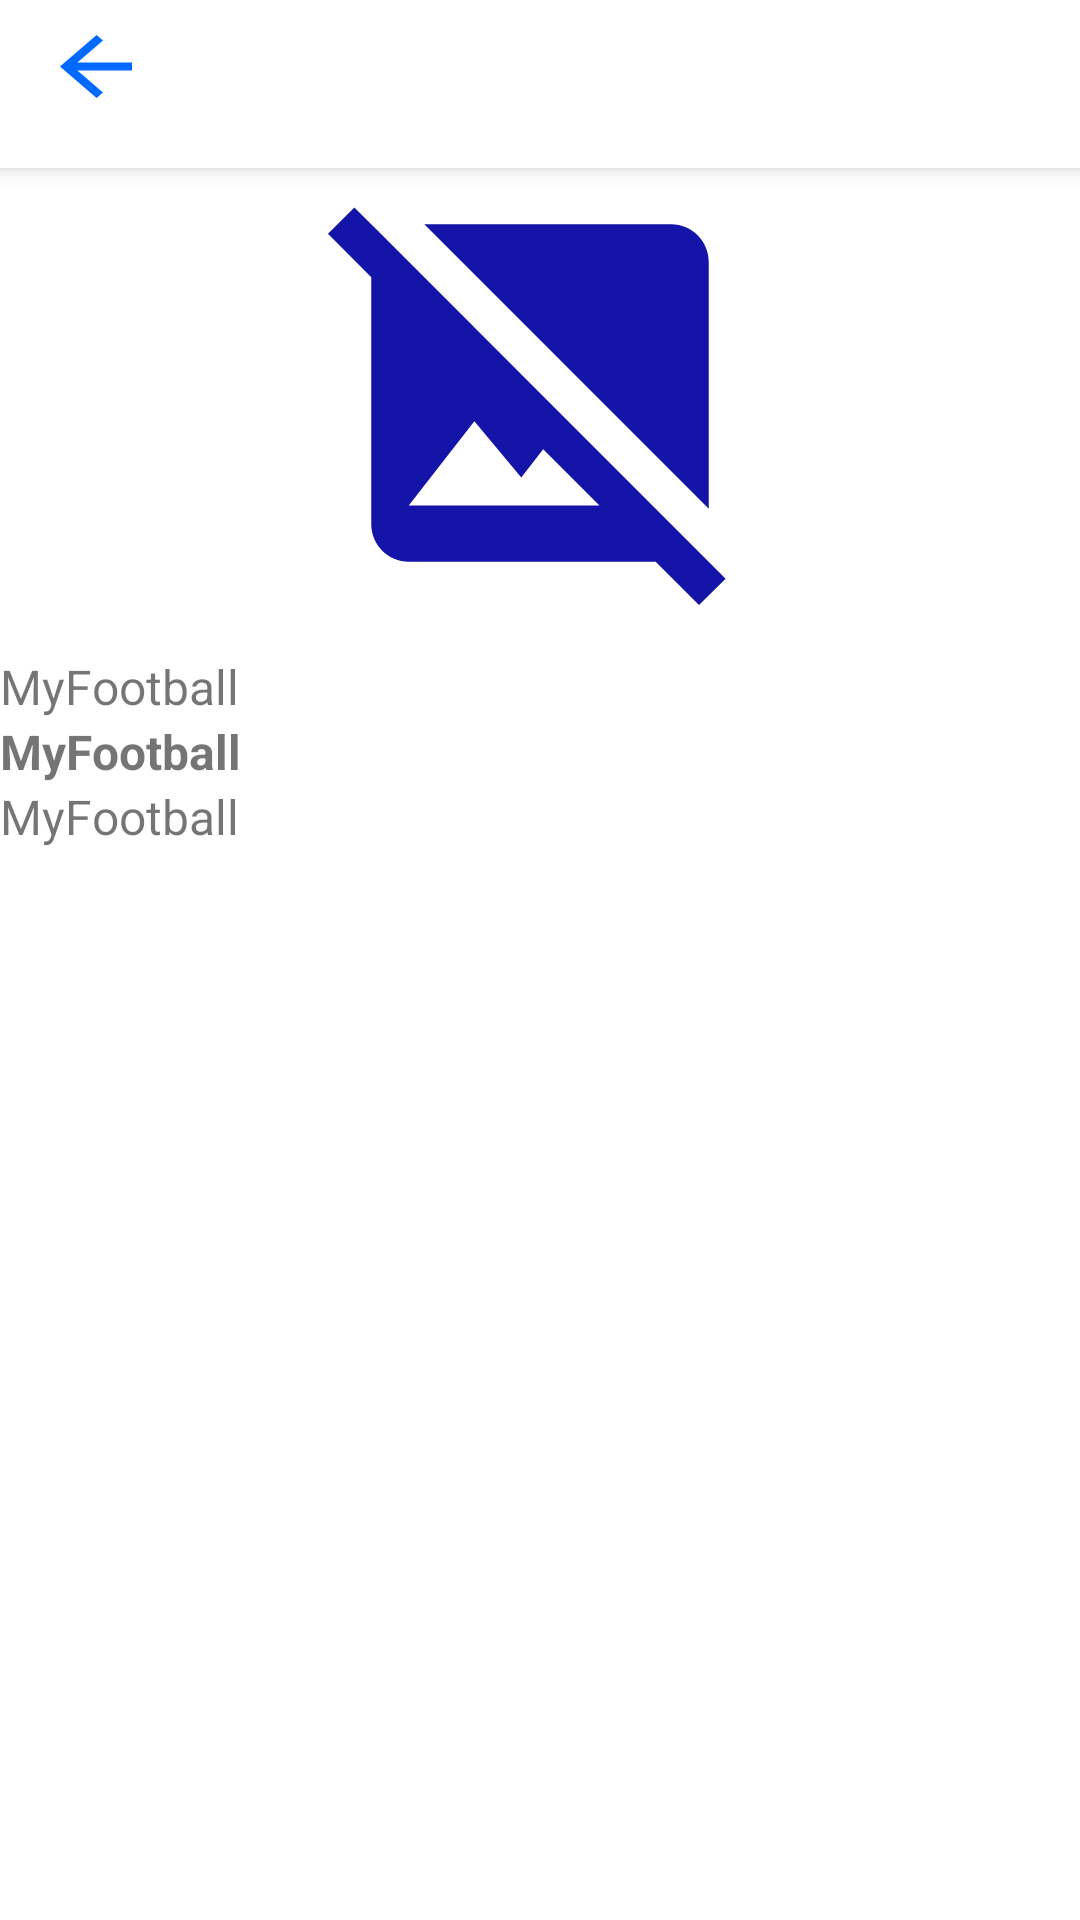

Where icons sit on this 1080*1920 app screen, as bbox(x1, y1, x2, y2):
arrow back: bbox(60, 35, 132, 98)
